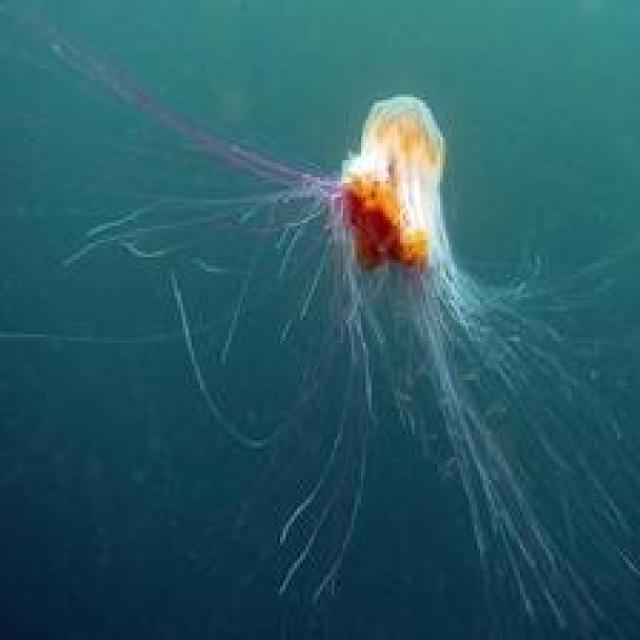Jellyfish: (32, 6, 637, 634)
